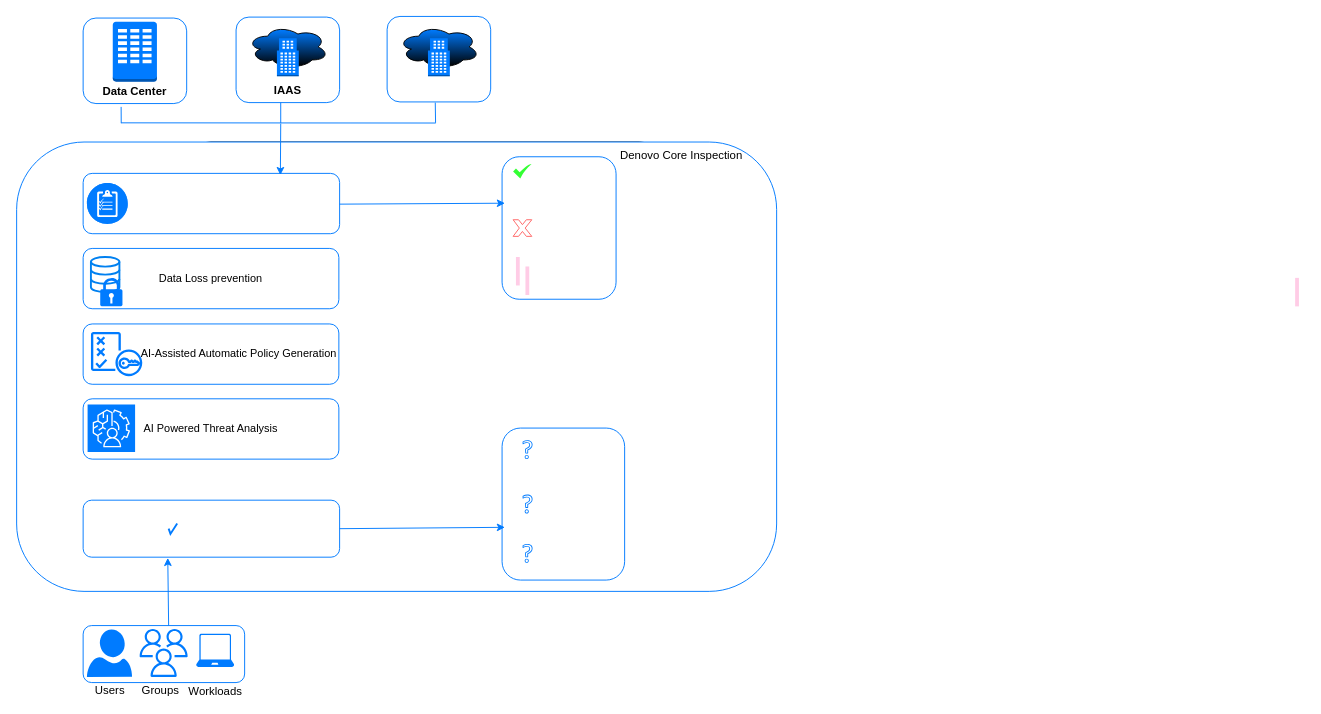
The diagram is 1321 pixels wide and 714 high, and some of its shapes have lost their labels. Each missing label, with the box of its shape:
ALLOW BLOCK ISOLATE: (501, 156, 616, 299)
Policy: (82, 172, 340, 234)
SAAS: (386, 15, 491, 102)
Verification: (82, 499, 340, 557)
What context Who: (501, 427, 625, 580)
